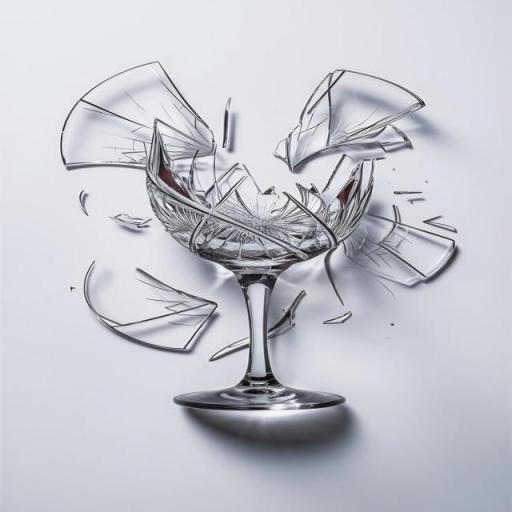glass: (143, 152, 369, 407), (63, 249, 241, 361), (61, 62, 214, 172), (278, 70, 423, 172), (344, 205, 456, 287)
